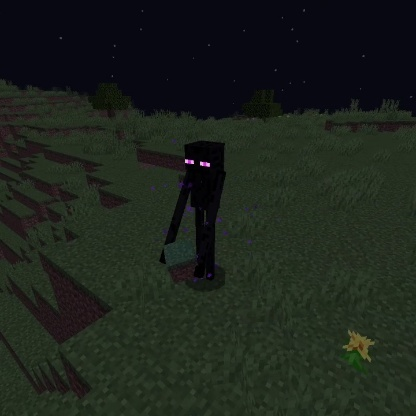enderman: (157, 138, 229, 284)
